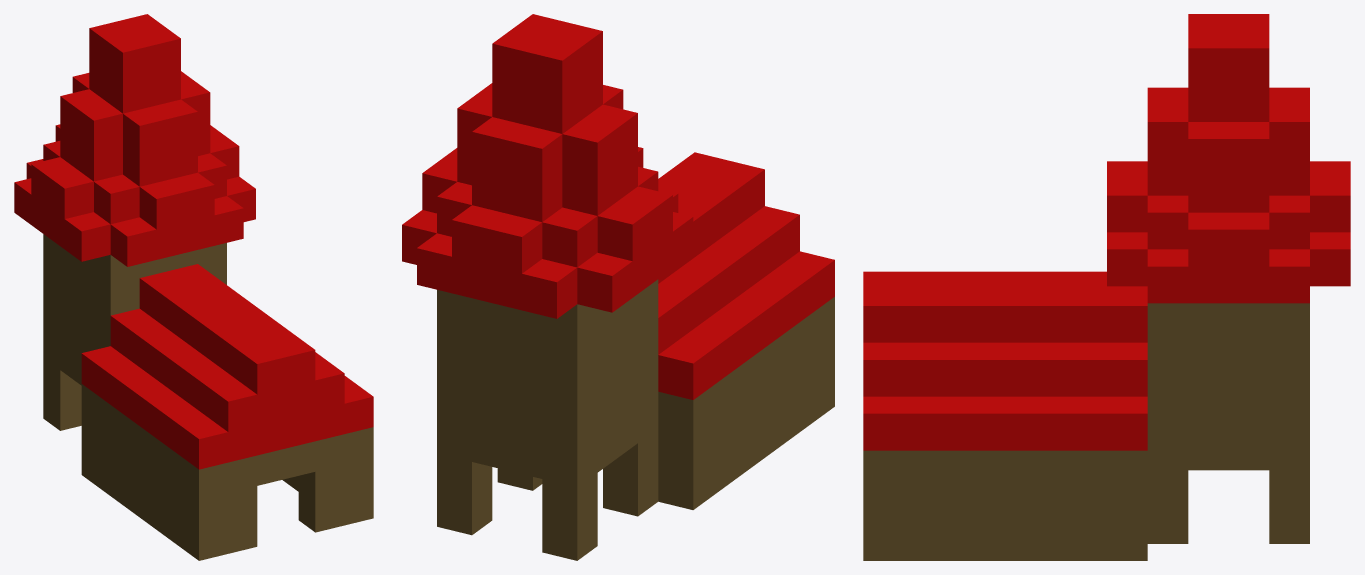
The model's file is monasterio.obj.
The picture shows the model from 3 angles, left to right: view 1: azimuth 30°, elevation 25°; view 2: azimuth 150°, elevation 25°; view 3: azimuth 270°, elevation 25°; orthographic projection. The views are drawn at different scales.
Bounding box in the file's own units: 0.6 × 1.3 × 1.2.
Materials: 1 (1 with a texture image).
